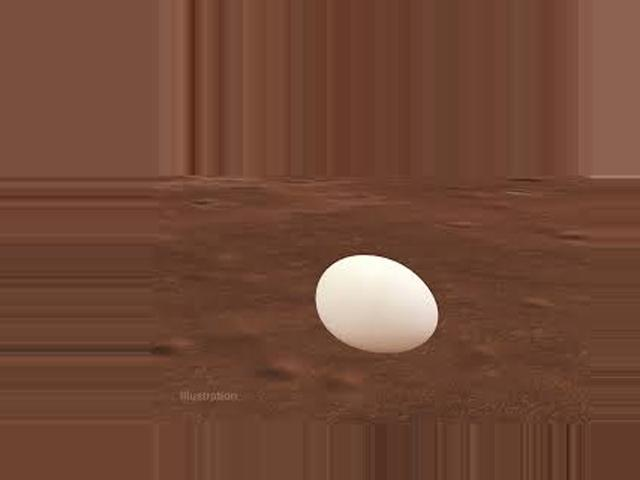egg: (315, 255, 439, 352)
